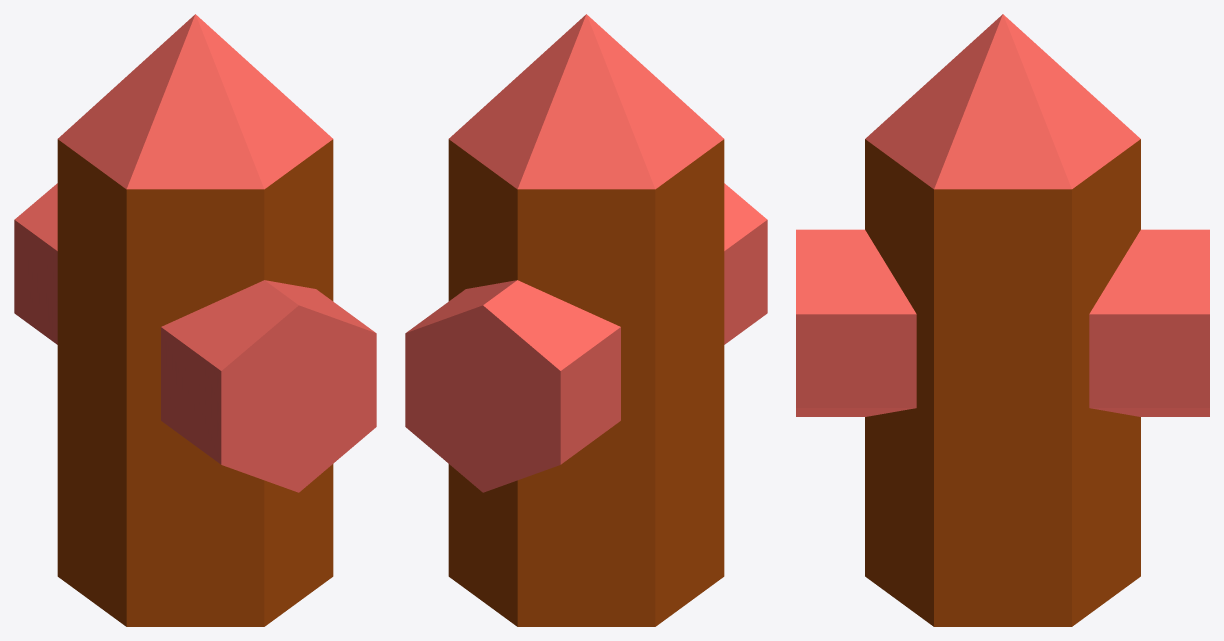
The model's file is FIREH29.glb.
3 renders of one model, left to right at view 1: azimuth 30°, elevation 25°; view 2: azimuth 150°, elevation 25°; view 3: azimuth 270°, elevation 25°, orthographic.
Visible parts, largest first — view 1: FIREH29 | archived geometry; view 2: FIREH29 | archived geometry; view 3: FIREH29 | archived geometry.
Boxes of the visible parts, bbox=[...] form: FIREH29 | archived geometry: bbox=[14, 14, 376, 626]; FIREH29 | archived geometry: bbox=[405, 14, 767, 626]; FIREH29 | archived geometry: bbox=[796, 14, 1209, 626].
Bounding box in the file's own units: 0.3372 × 0.8761 × 0.5841.
